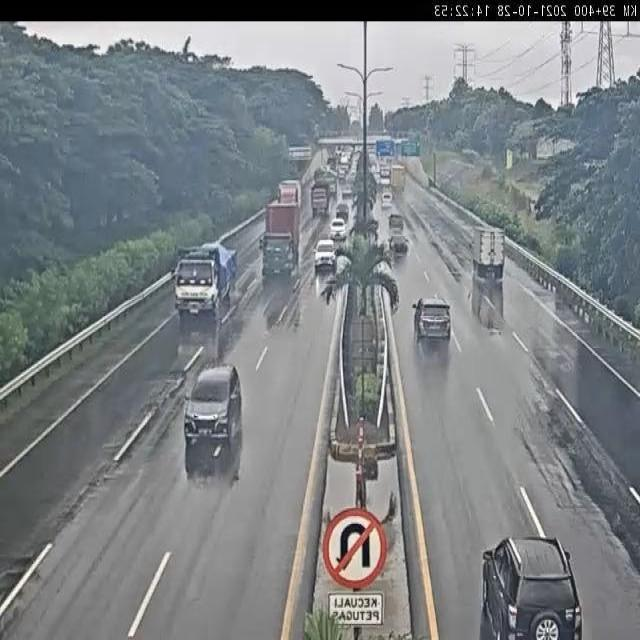Car: (478, 537, 584, 639), (183, 362, 243, 473), (413, 292, 452, 343), (314, 238, 337, 270), (388, 233, 409, 256), (329, 217, 348, 241), (388, 213, 404, 235), (335, 202, 350, 225), (381, 192, 392, 209)
Truck: (172, 240, 231, 326), (262, 180, 300, 300), (466, 224, 505, 272), (311, 172, 336, 216), (390, 164, 406, 193)
